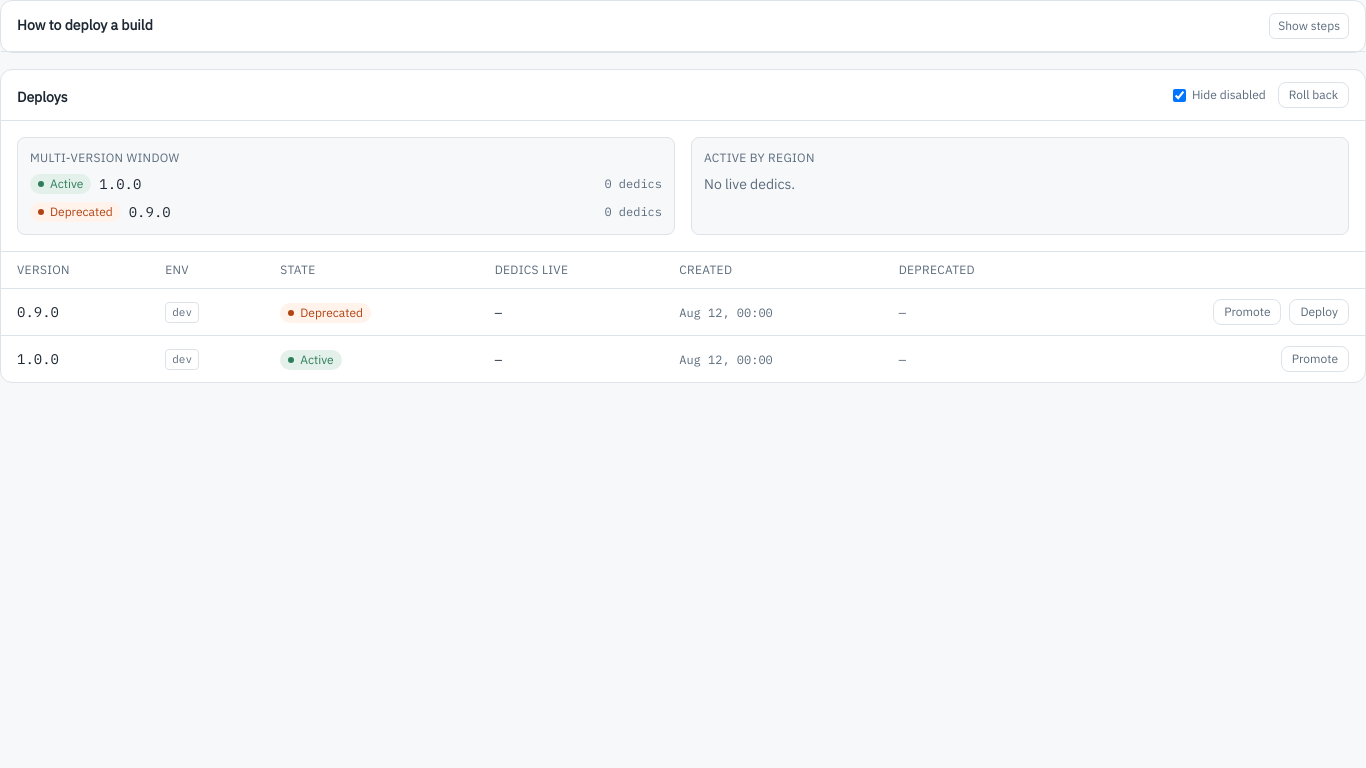
Test: Деплои — тост в момент действия (warning мастера) › без warning — прежний тост об успехе (контроль: сигнал не сработал на пустом месте)
The width and height of the screenshot is (1366, 768).
Step 1. Click the button "Deploy" → (1319, 312), box x1=1290 y1=299 x2=1349 y2=325
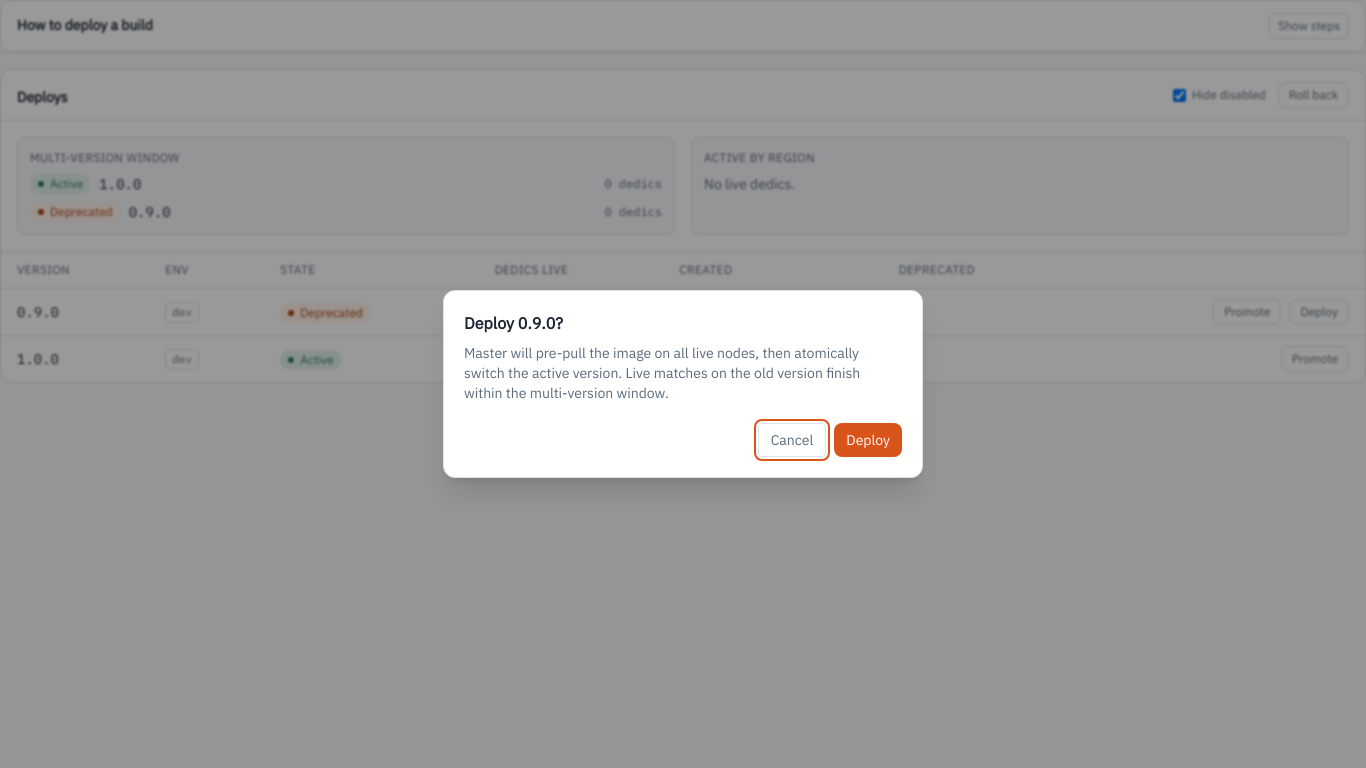
Step 2. Click the button "Deploy" → (868, 440), box x1=834 y1=423 x2=902 y2=457
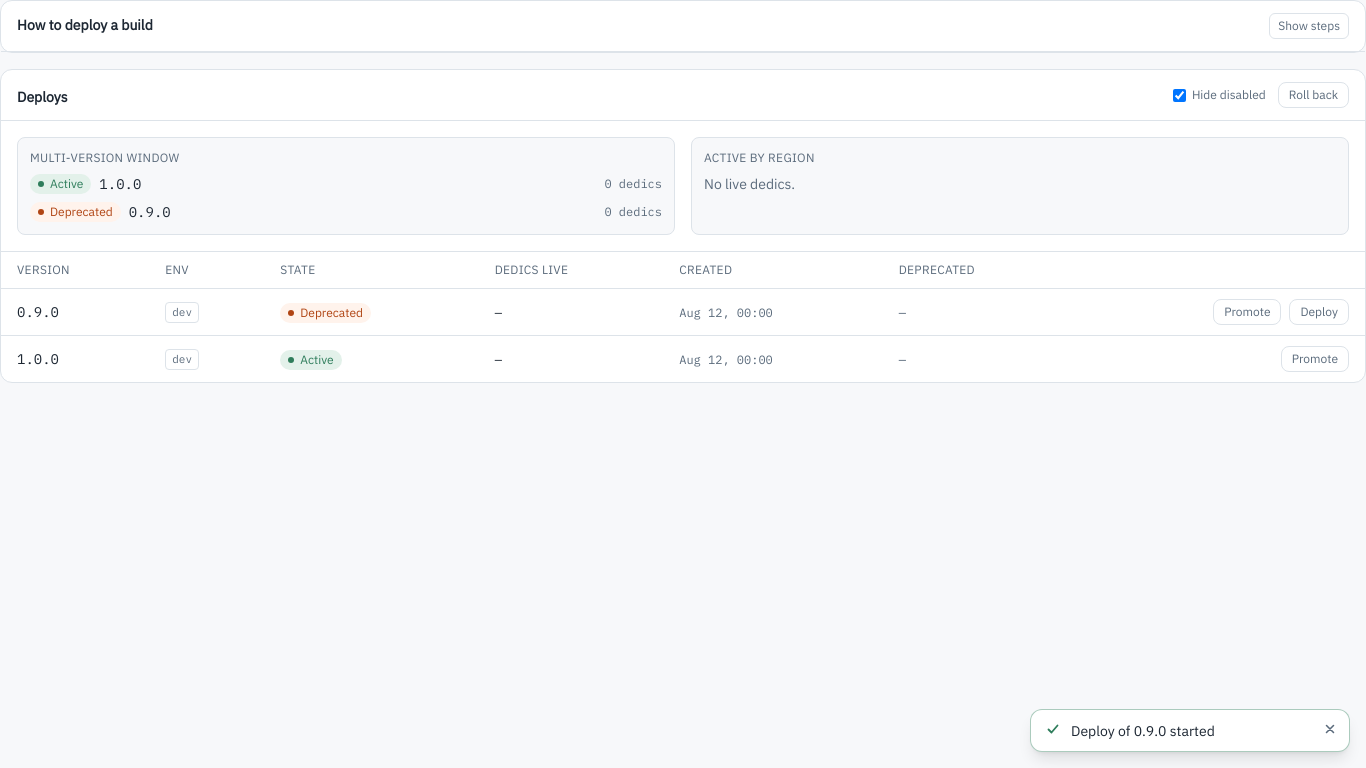
Expected: the text "Deploy of 0.9.0 started" is shown, x1=1071 y1=722 x2=1215 y2=740
